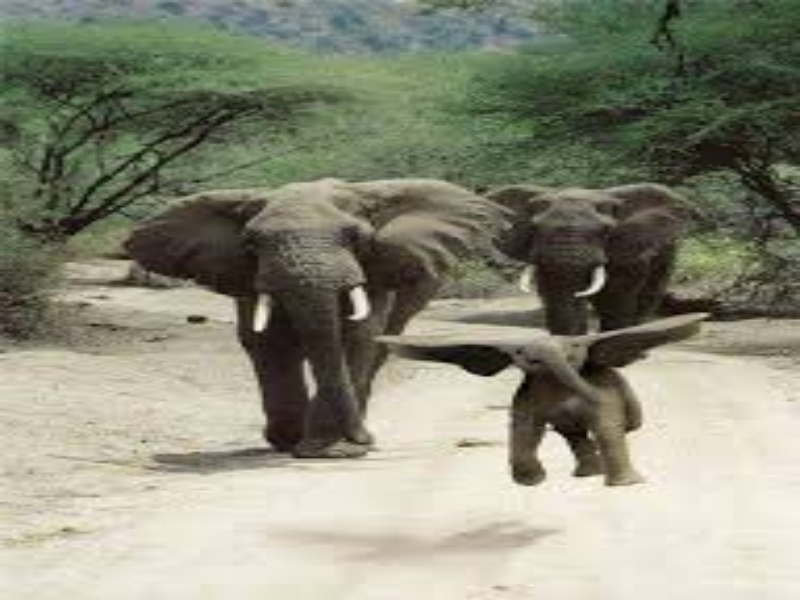elephant: (148, 177, 490, 470), (414, 319, 670, 489), (494, 178, 683, 324)
